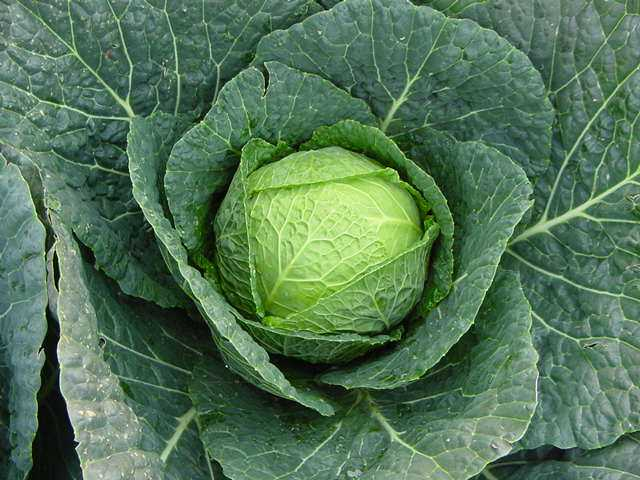cabbage: (1, 1, 638, 478)
